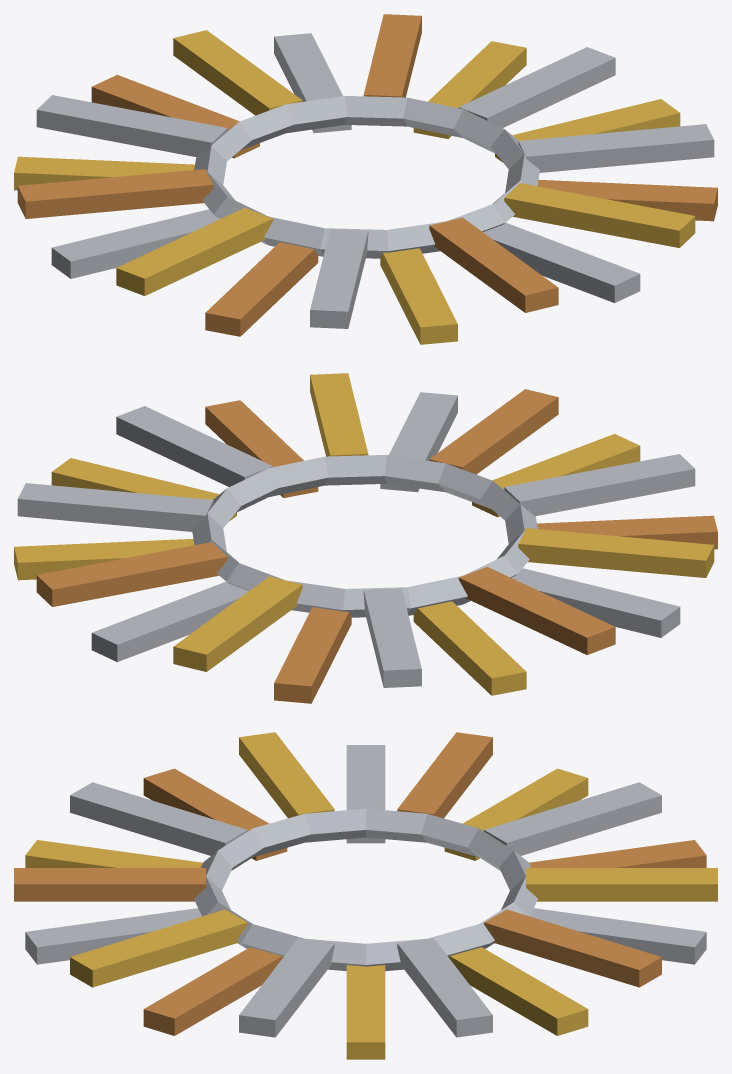
Rendered from key_bunch.glb.
3 views of the same model, one above another, from view 1: azimuth 30°, elevation 25°; view 2: azimuth 150°, elevation 25°; view 3: azimuth 270°, elevation 25° (orthographic).
Parts seen in each view (by area): view 1: keys, ring_ring_steel; view 2: keys, ring_ring_steel; view 3: keys, ring_ring_steel.
Boxes of the visible parts, box(x1,y1,x2,y2) form: keys: box(14, 14, 717, 344); ring_ring_steel: box(194, 96, 539, 258); keys: box(14, 373, 717, 703); ring_ring_steel: box(192, 455, 537, 617); keys: box(14, 732, 717, 1059); ring_ring_steel: box(194, 808, 537, 970).
Size of the model in its own units: 0.22 by 0.012 by 0.22.
